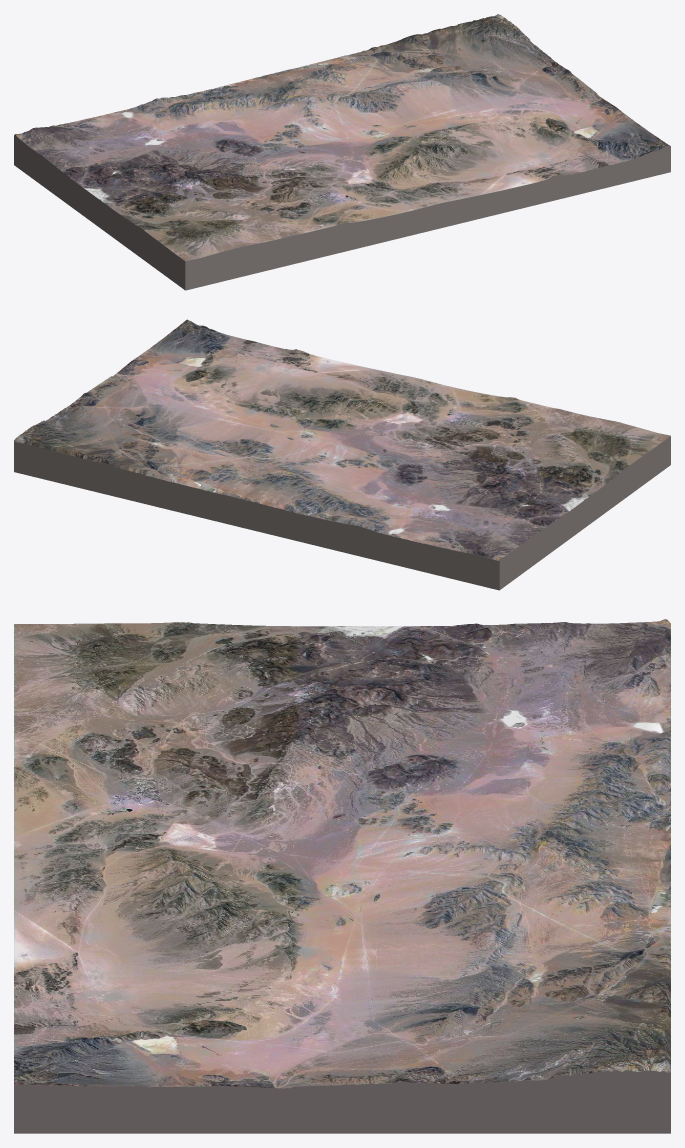
File: NTC_Draco.gltf
The picture shows the model from 3 angles, top to bottom: view 1: azimuth 30°, elevation 25°; view 2: azimuth 150°, elevation 25°; view 3: azimuth 270°, elevation 25°; orthographic projection. The views are drawn at different scales.
Parts seen in each view (by area): view 1: TerrainMesh; view 2: TerrainMesh; view 3: TerrainMesh.
Part boxes in pixels (box(x1,y1,x2,y2)): TerrainMesh: box(14, 14, 670, 290); TerrainMesh: box(14, 319, 670, 590); TerrainMesh: box(14, 619, 670, 1133).
Bounding box in the file's own units: 1 × 0.0665 × 0.6118.
Materials: 2 (1 with a texture image).
